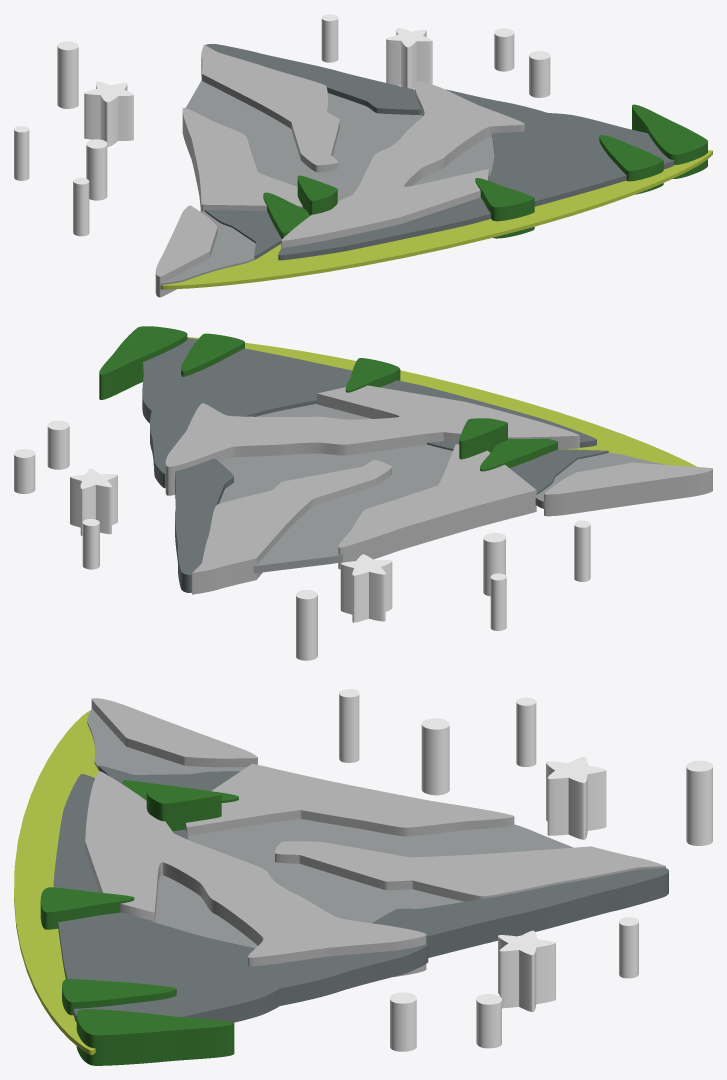
Rendered from emoji_u26f0.glb.
3 views of the same model, one above another, from view 1: azimuth 30°, elevation 25°; view 2: azimuth 150°, elevation 25°; view 3: azimuth 270°, elevation 25° (orthographic). The views are drawn at different scales.
Visible parts, largest first — view 1: emoji_u26f0; view 2: emoji_u26f0; view 3: emoji_u26f0.
Boxes of the visible parts, x1=… form: emoji_u26f0: x1=14, y1=14, x2=712, y2=297; emoji_u26f0: x1=14, y1=326, x2=712, y2=660; emoji_u26f0: x1=14, y1=689, x2=712, y2=1065.
Size of the model in its own units: 0.0335 by 0.0034 by 0.029.
